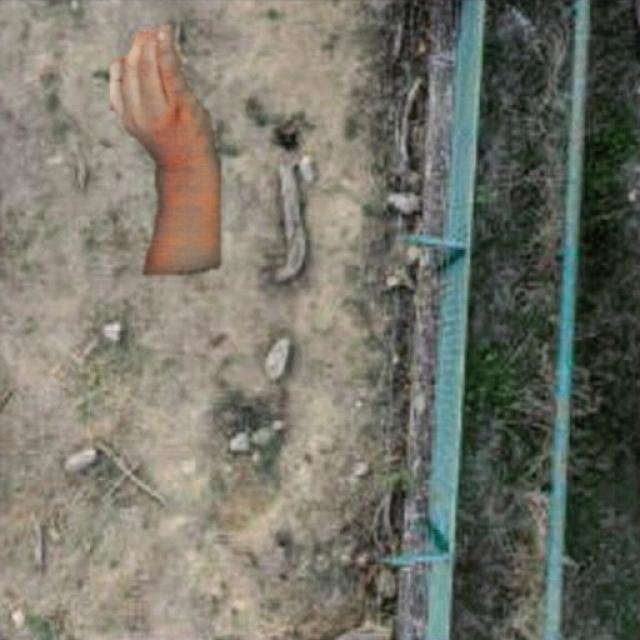Person in Rubble: (110, 25, 220, 274)
